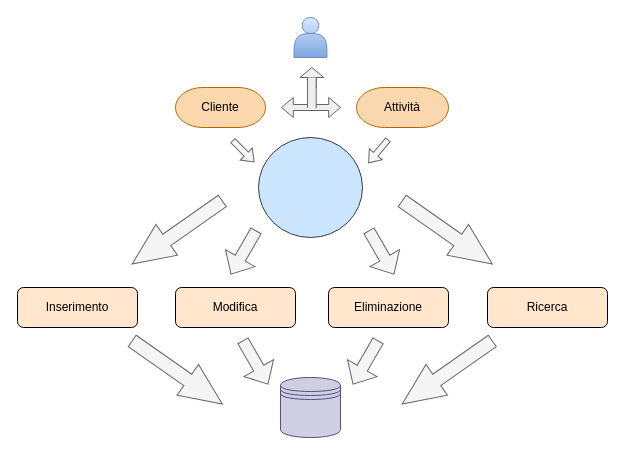
Image size: 625x455. Some labels were removed from this diagram. The centre of each missing label's shape, as x and y in pixels:
DataBase: the point at 310,407
Web Application: the point at 310,187
